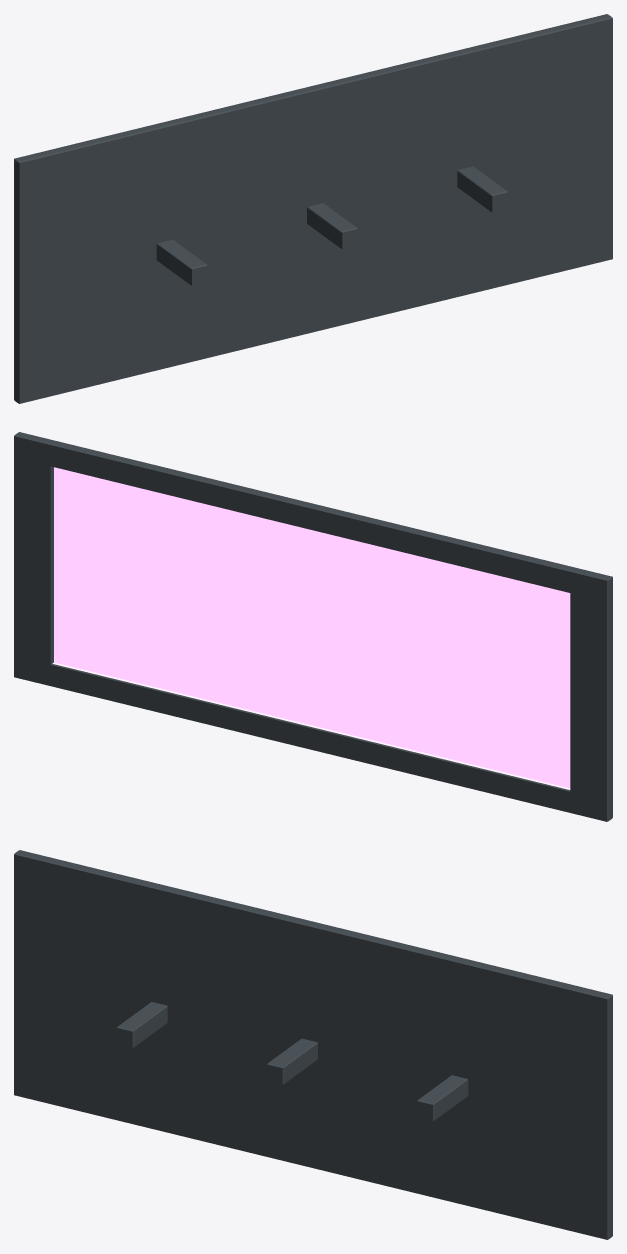
The model's file is sign3.fbx.
3 renders of one model, top to bottom at view 1: azimuth 30°, elevation 25°; view 2: azimuth 150°, elevation 25°; view 3: azimuth 330°, elevation 25°, orthographic.
Visible parts, largest first — view 1: Куб.001; view 2: Куб.001; view 3: Куб.001.
Boxes of the visible parts, bbox=[...] form: Куб.001: bbox=[14, 14, 612, 403]; Куб.001: bbox=[14, 432, 612, 821]; Куб.001: bbox=[14, 850, 612, 1239].
Bounding box in the file's own units: 180 × 70 × 21.26.
